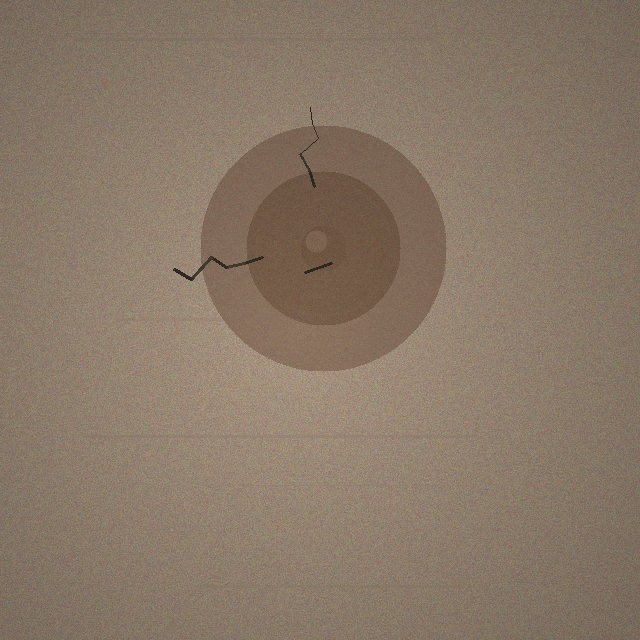crack: (200, 125, 446, 371)
